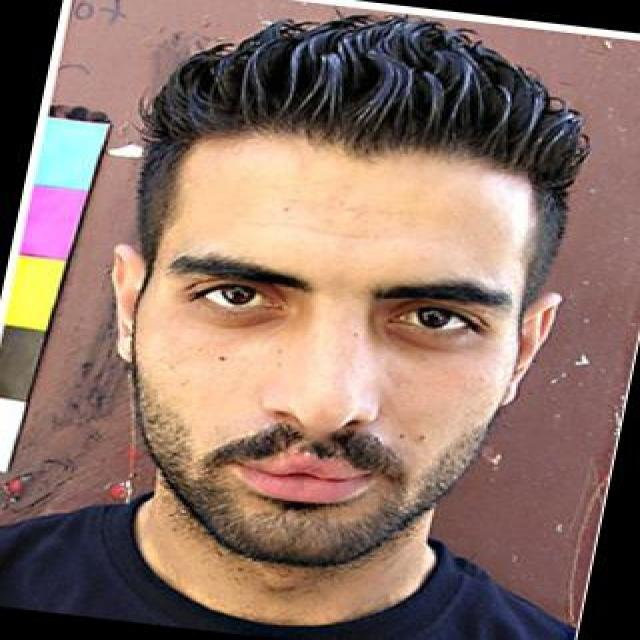no_mask: (114, 66, 574, 570)
